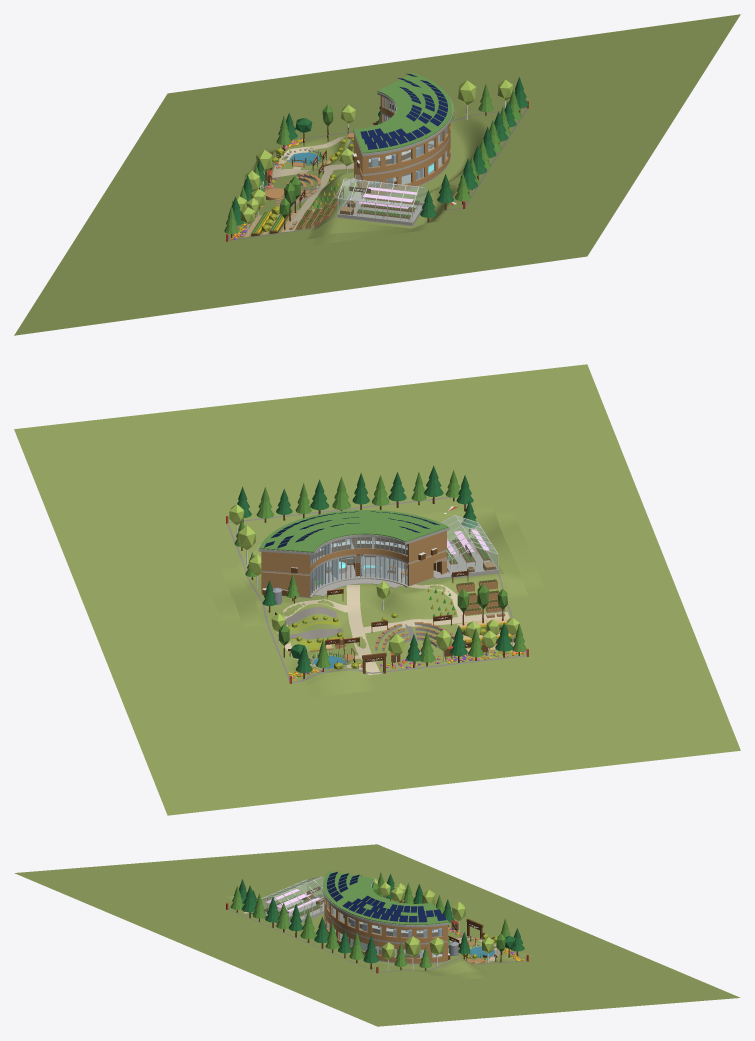
The model's file is center.glb.
3 views of the same model, one above another, from view 1: azimuth 30°, elevation 25°; view 2: azimuth 150°, elevation 25°; view 3: azimuth 270°, elevation 25° (orthographic). The views are drawn at different scales.
Parts seen in each view (by area): view 1: Terrain, Bld_roofgreen, Bld_wood, GH_gh_glass, Bld_solar, GH_concrete, Bld_glass, OUT_wood, Bld_concrete, Boundary_Curb, GH_gh_frame, OUT_soil; view 2: Terrain, Bld_roofgreen, Bld_wood, Bld_concrete, Bld_glass, GH_gh_glass, OUT_wood, Bld_metal, Boundary_Curb, Path_MainSpine, GH_concrete, F1_white (+1 smaller); view 3: Terrain, Bld_wood, Bld_roofgreen, Bld_solar, GH_gh_glass, Bld_glass, Bld_concrete, GH_gh_frame, GH_concrete, Boundary_Curb, GH_growlight.
Boxes of the visible parts, bbox=[...] form: Terrain: bbox=[14, 14, 740, 335]; Bld_roofgreen: bbox=[353, 72, 452, 153]; Bld_wood: bbox=[354, 96, 450, 195]; GH_gh_glass: bbox=[338, 179, 424, 221]; Bld_solar: bbox=[360, 73, 447, 149]; GH_concrete: bbox=[337, 191, 423, 226]; Bld_glass: bbox=[369, 97, 447, 190]; OUT_wood: bbox=[265, 153, 339, 229]; Bld_concrete: bbox=[353, 92, 453, 195]; Boundary_Curb: bbox=[228, 107, 527, 240]; GH_gh_frame: bbox=[337, 174, 425, 224]; OUT_soil: bbox=[251, 175, 337, 236]; Terrain: bbox=[14, 364, 740, 815]; Bld_roofgreen: bbox=[259, 510, 448, 552]; Bld_wood: bbox=[261, 531, 446, 597]; Bld_concrete: bbox=[258, 527, 449, 598]; Bld_glass: bbox=[310, 537, 407, 594]; GH_gh_glass: bbox=[442, 516, 497, 572]; OUT_wood: bbox=[310, 579, 505, 661]; Bld_metal: bbox=[310, 537, 408, 594]; Boundary_Curb: bbox=[227, 497, 526, 682]; Path_MainSpine: bbox=[346, 585, 380, 674]; GH_concrete: bbox=[434, 539, 498, 579]; F1_white: bbox=[262, 554, 403, 590]; Terrain: bbox=[14, 844, 740, 1026]; Bld_wood: bbox=[324, 897, 447, 963]; Bld_roofgreen: bbox=[322, 871, 448, 925]; Bld_solar: bbox=[326, 872, 446, 922]; GH_gh_glass: bbox=[262, 877, 323, 923]; Bld_glass: bbox=[327, 901, 442, 957]; Bld_concrete: bbox=[322, 877, 449, 964]; GH_gh_frame: bbox=[261, 876, 323, 921]; GH_concrete: bbox=[264, 895, 324, 924]; Boundary_Curb: bbox=[228, 908, 526, 972]; GH_growlight: bbox=[266, 889, 320, 912].
Bounding box in the file's own units: 127 × 24.12 × 127.
